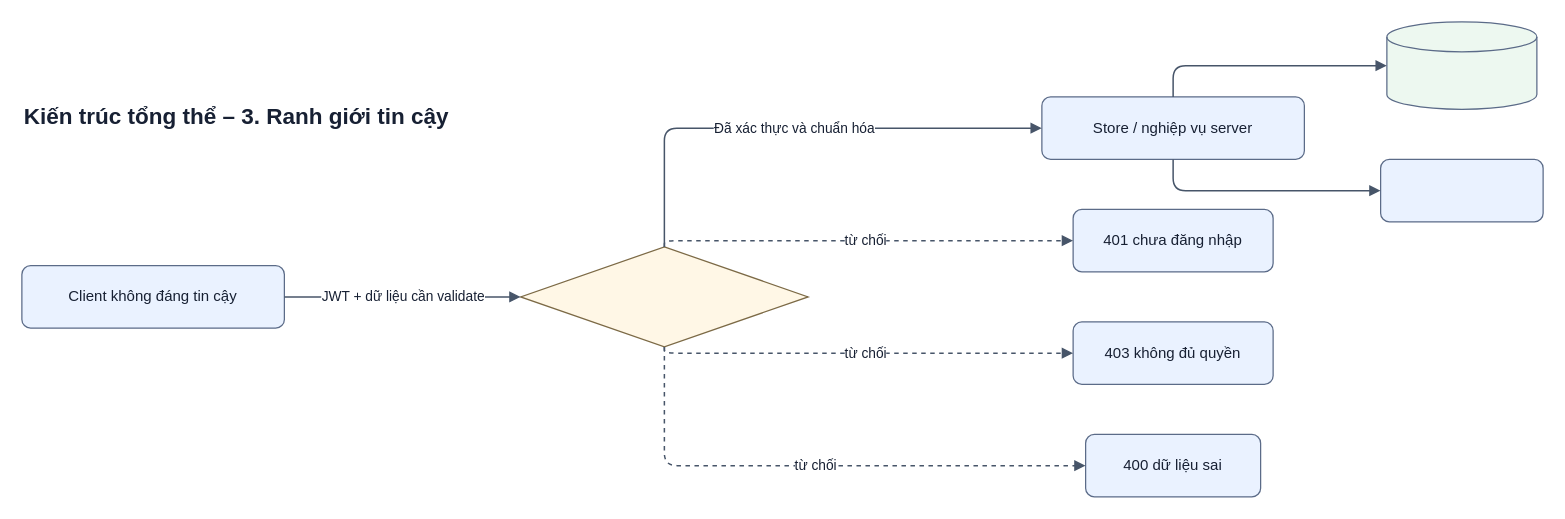
The diagram is 1565 pixels wide and 519 high, and some of its shapes have lost their labels. Here are the shapes that lost their labels. From the top down, the centre of each, then its label:
pixel 1461 65: SQL Server
pixel 1461 190: Dịch vụ ngoài
pixel 663 296: Express middleware
